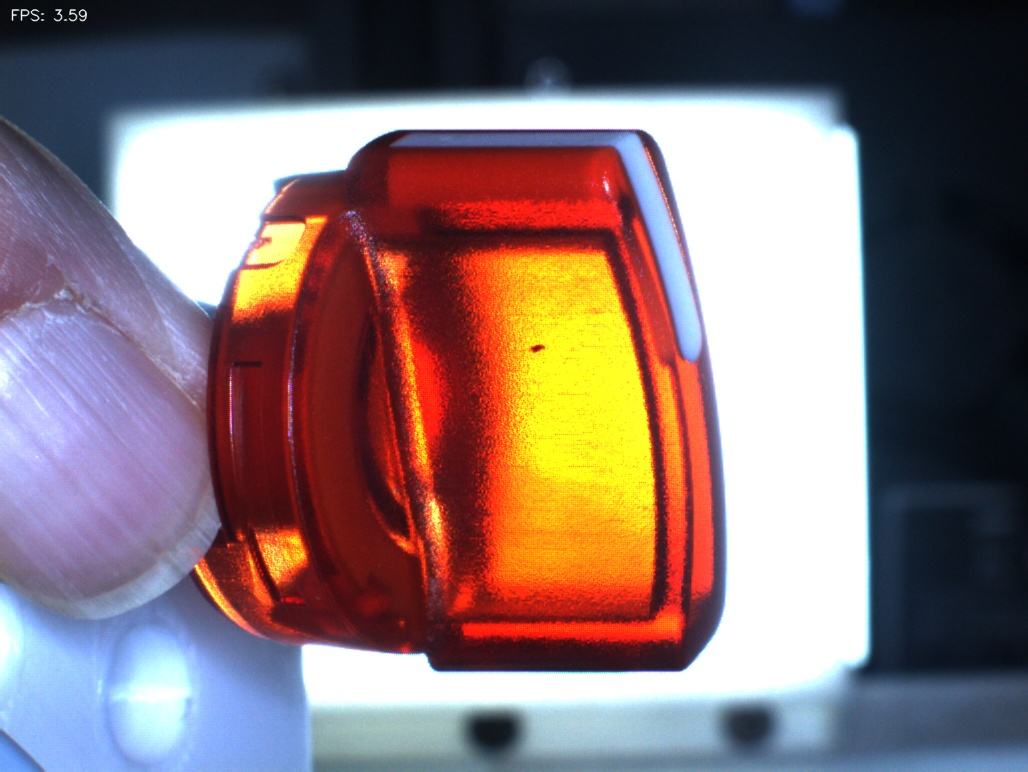PointNoir: (498, 314, 578, 382)
